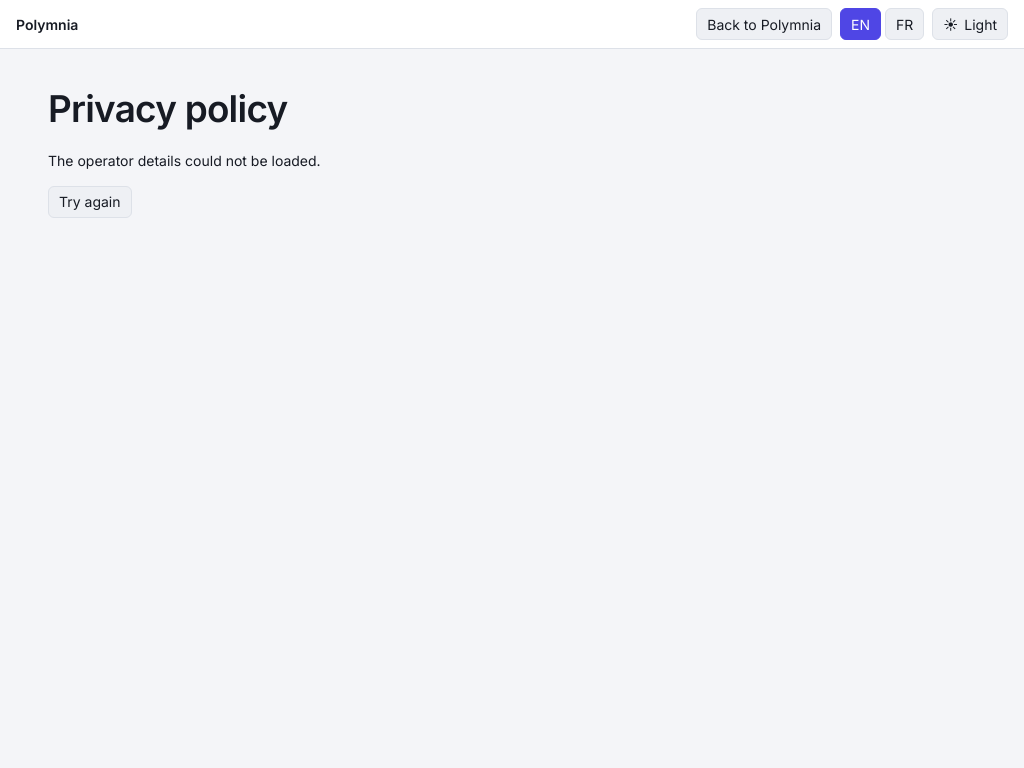
Test case: privacy page › offers a retry when the details cannot be loaded
Click the button "Try again" at (90, 202), box [48,186,132,218]
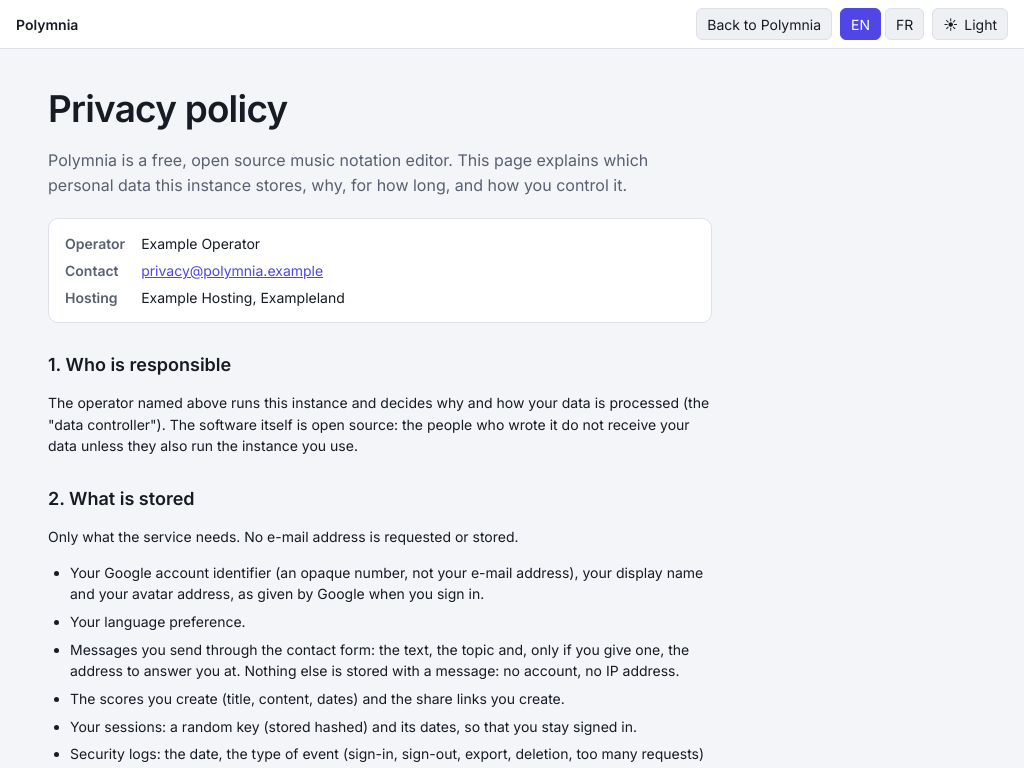
Result: the text "Example Operator" is shown at [141,235,260,252]
